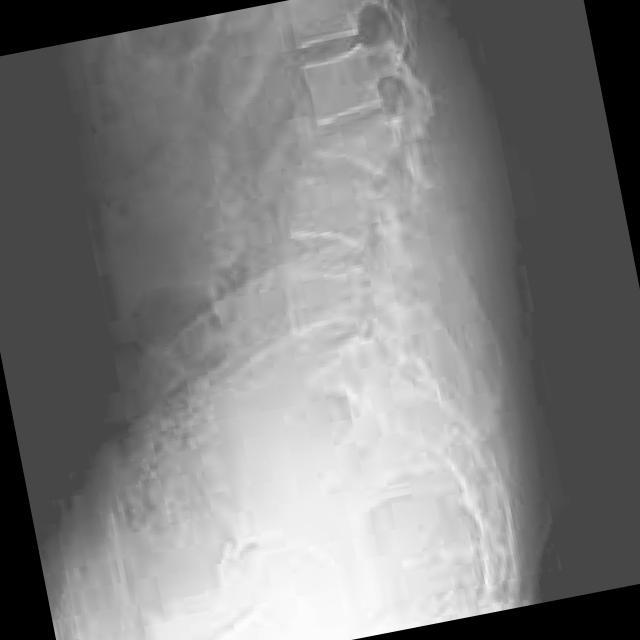Compression-Crush Fracutre: (307, 119, 399, 179)
